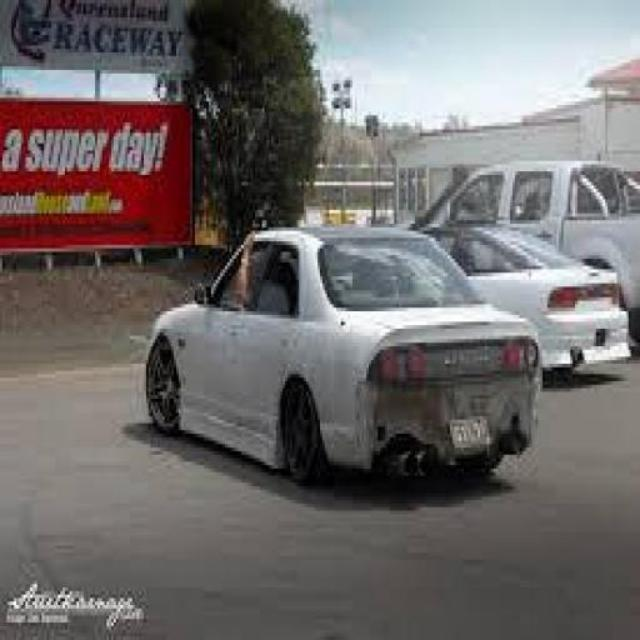dent: (360, 364, 543, 471)
